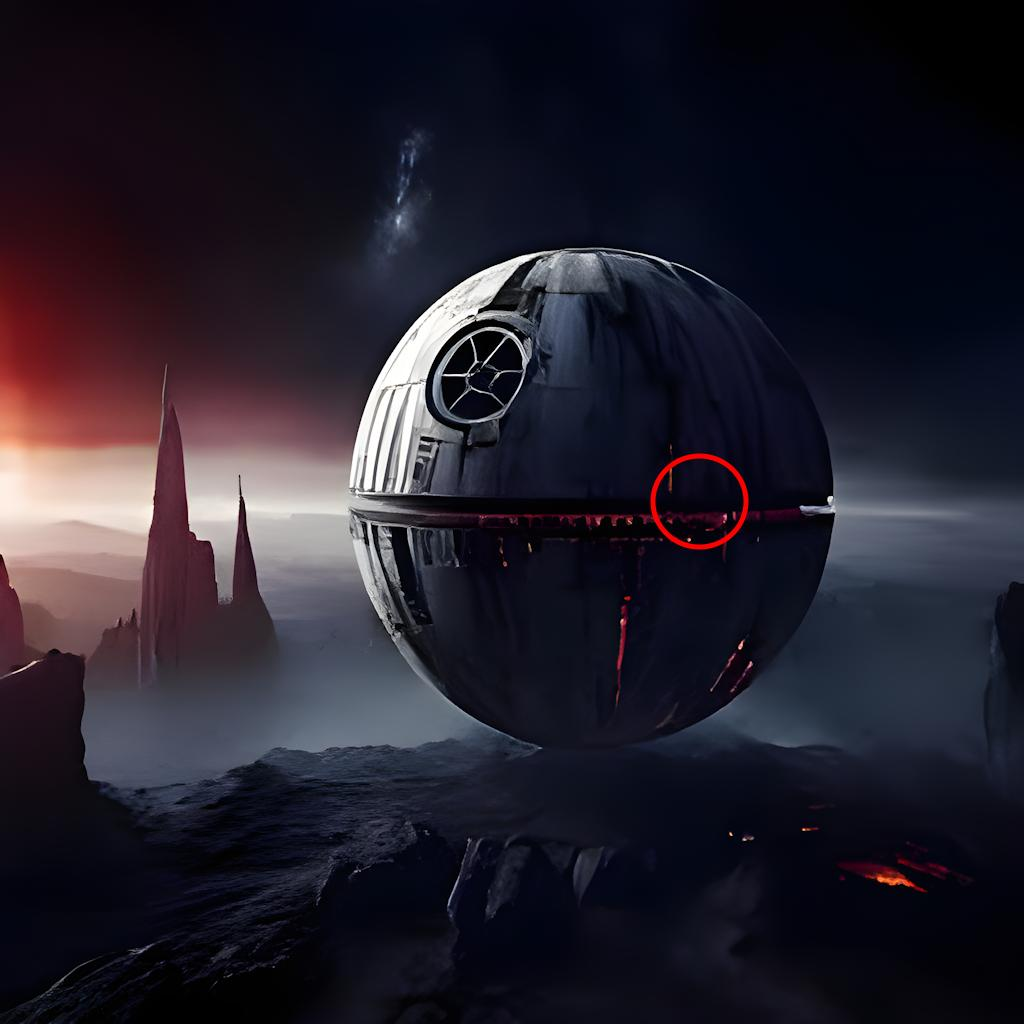Death-star: (346, 248, 837, 754)
